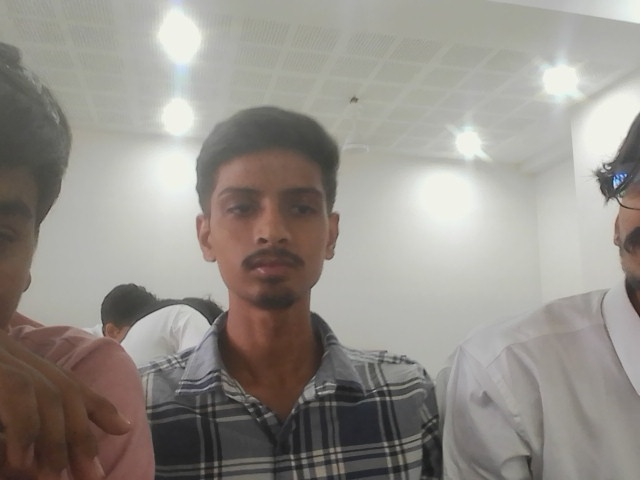fan_on: (340, 94, 370, 154)
light_on: (142, 19, 204, 146), (531, 53, 584, 102), (446, 118, 491, 159), (629, 10, 640, 25)
person: (123, 99, 502, 478), (0, 47, 153, 479)
